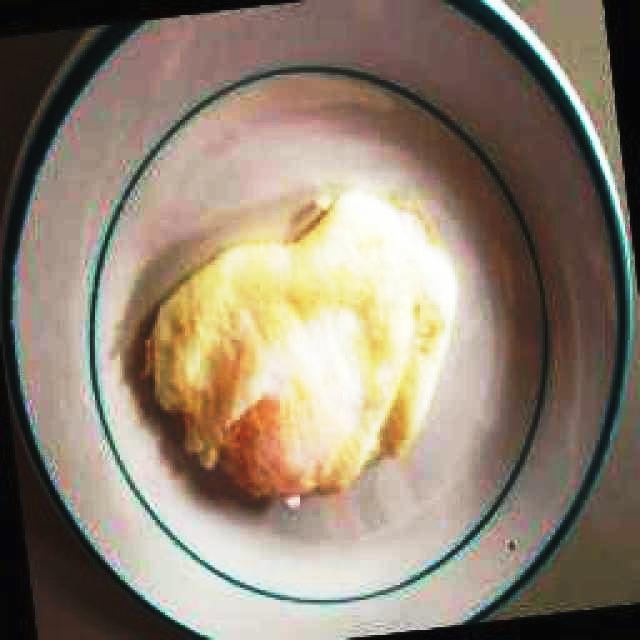fried_eggs: (146, 185, 459, 506)
